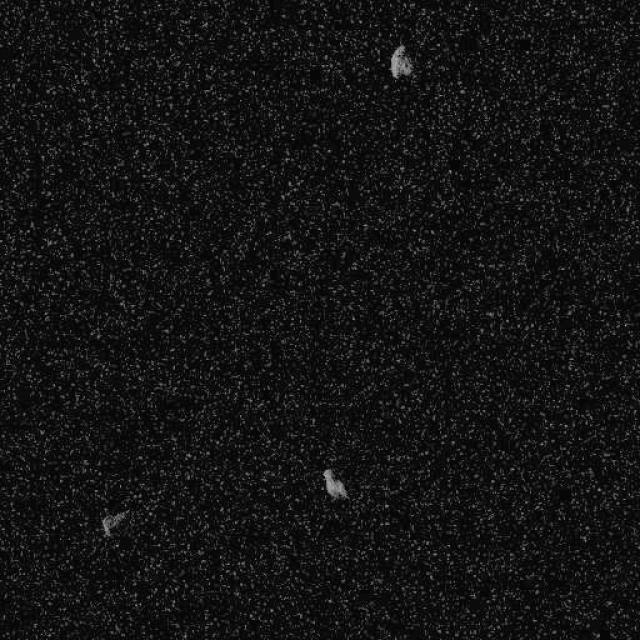D2: (0, 0, 639, 639), (321, 466, 349, 502), (388, 44, 414, 78), (100, 508, 129, 538)
